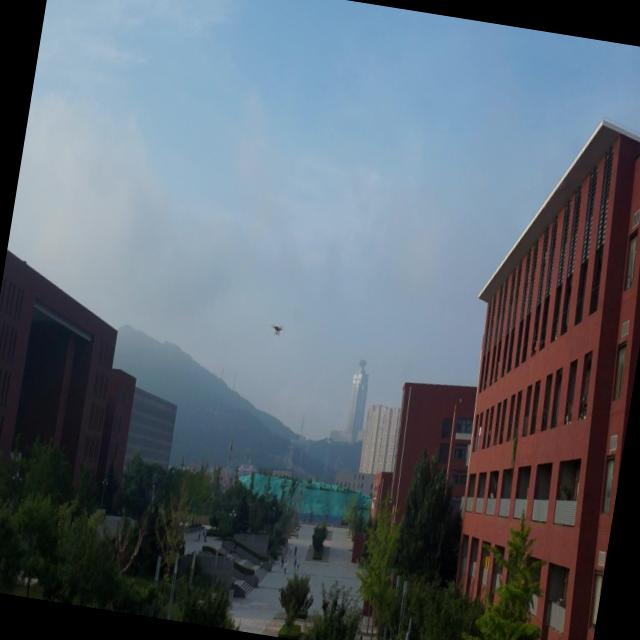drone: (270, 320, 284, 340)
